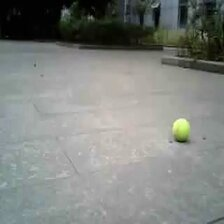tennis: (173, 119, 190, 142)
